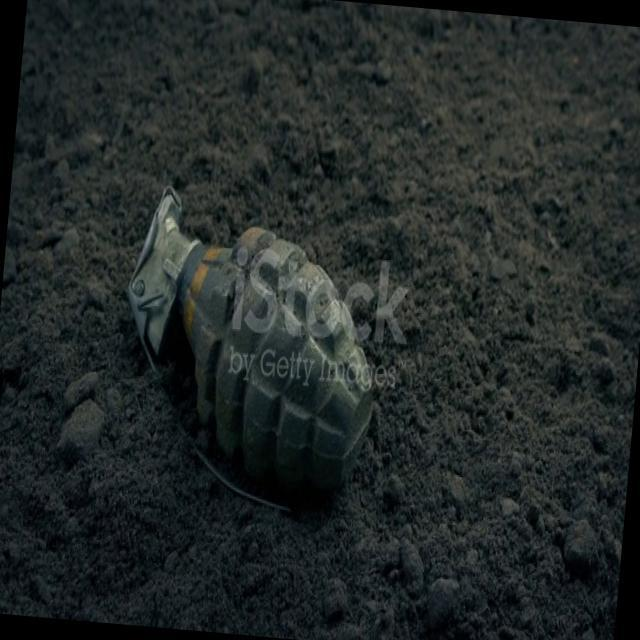grenade: (107, 187, 390, 521)
